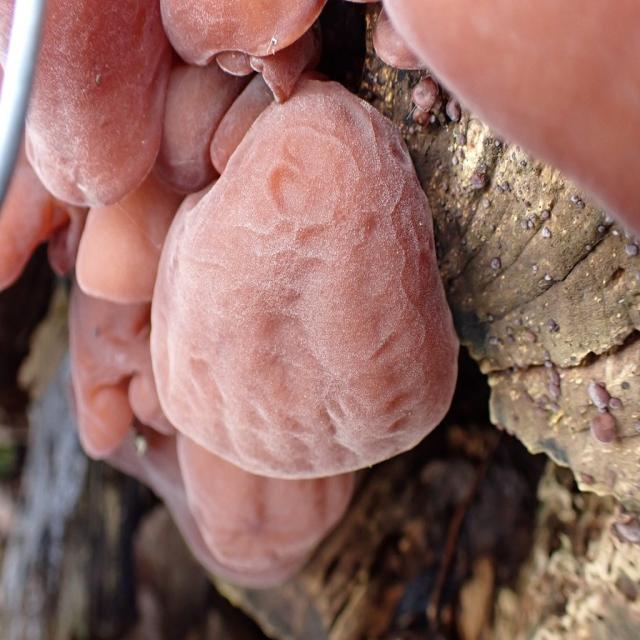Matang: (138, 70, 466, 487), (0, 0, 171, 212)
primordia: (412, 74, 442, 110), (407, 104, 439, 129), (446, 99, 463, 125)
